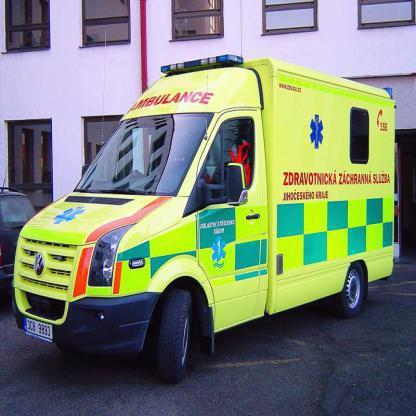Ambulance - v1 Ambulance last generate: (10, 40, 399, 383)
